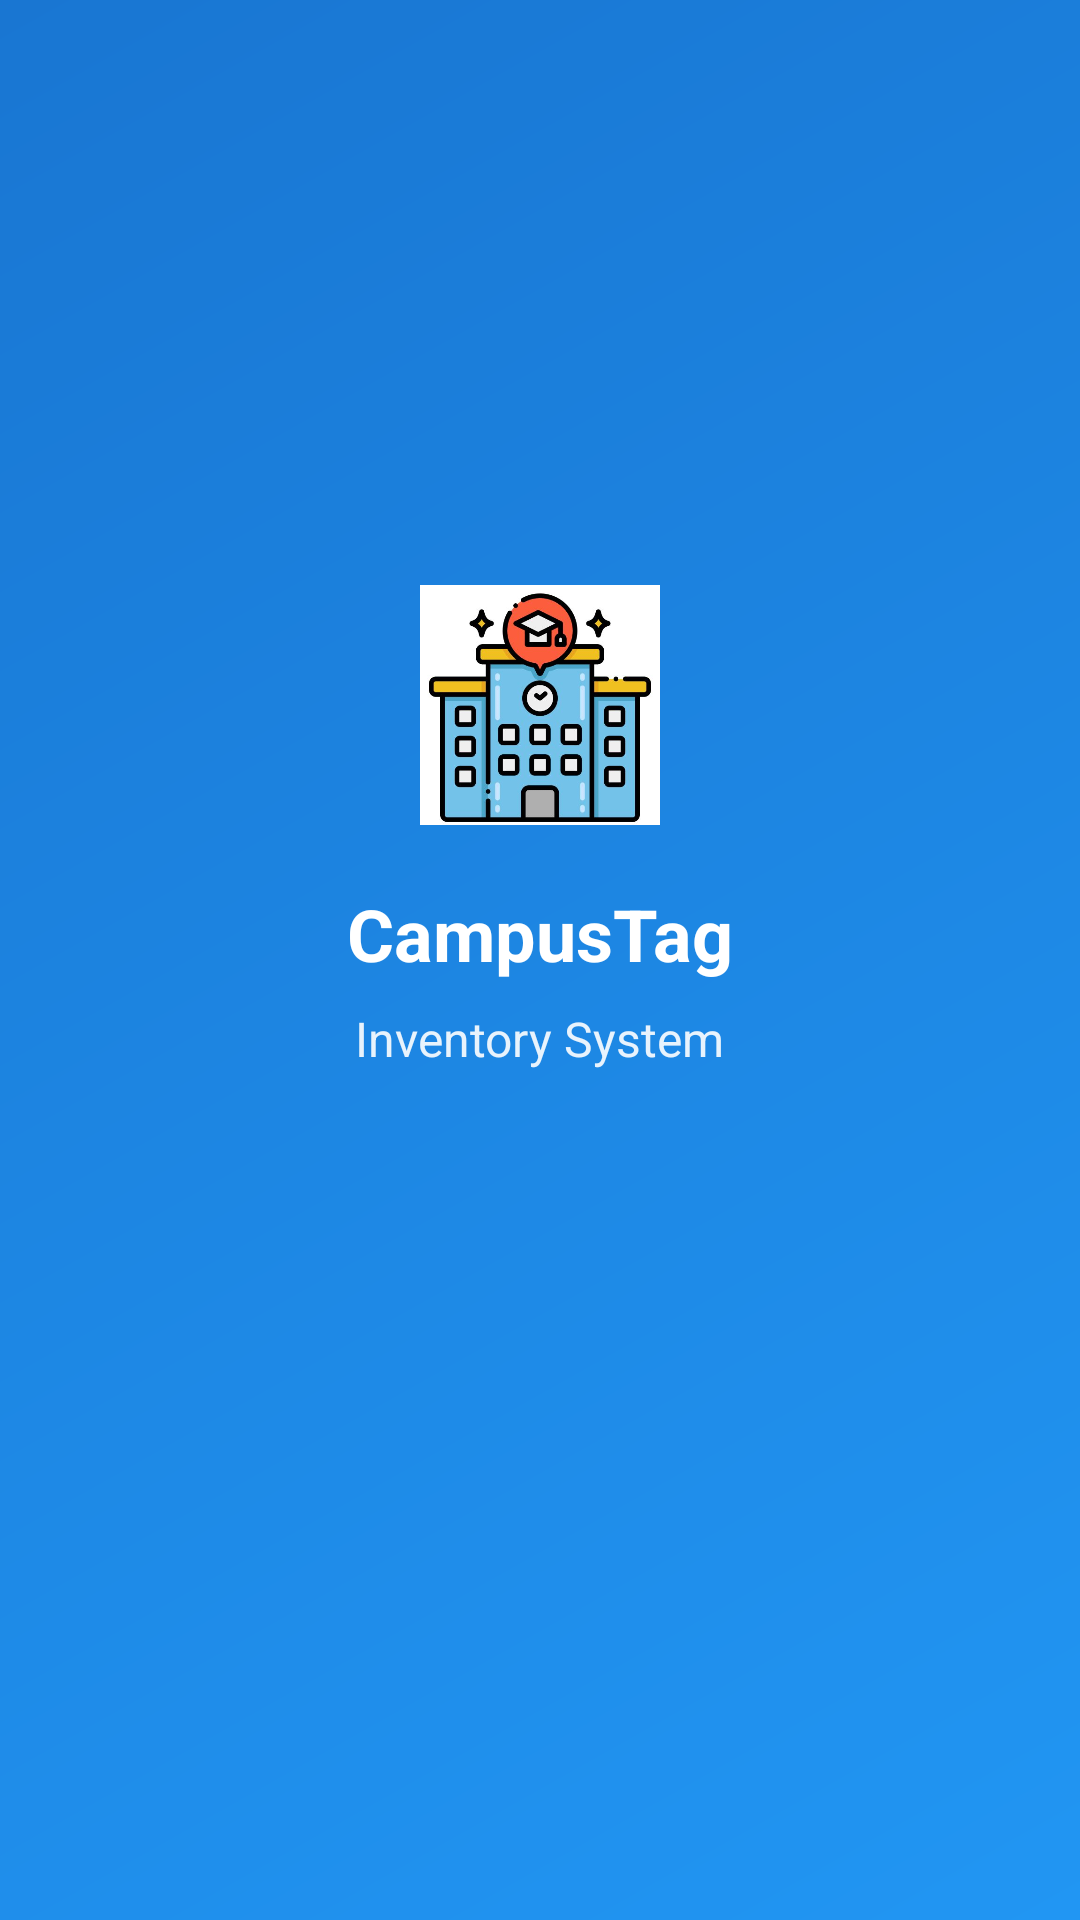

Icons on this 1080 x 1920 Android screen, each with the point to tap as (x=x, y=y):
university: (x=540, y=705)
